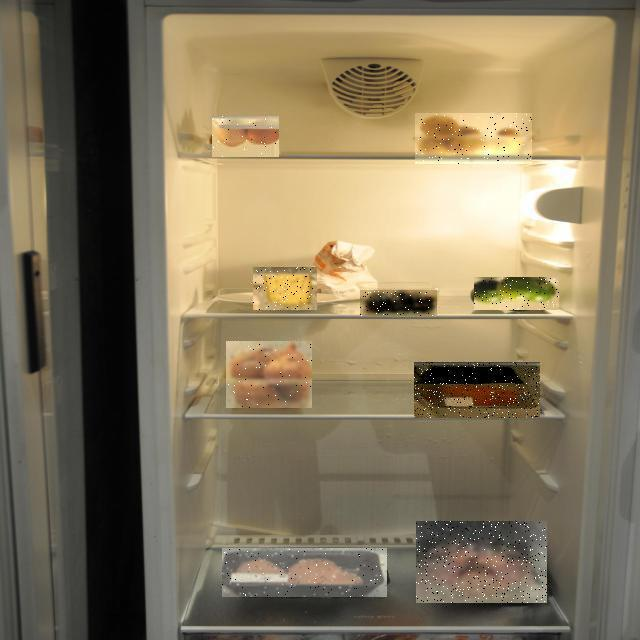cheese: (95, 155, 412, 465)
egg: (72, 78, 352, 235)
onion: (70, 204, 382, 612)
potato: (149, 82, 640, 246)
